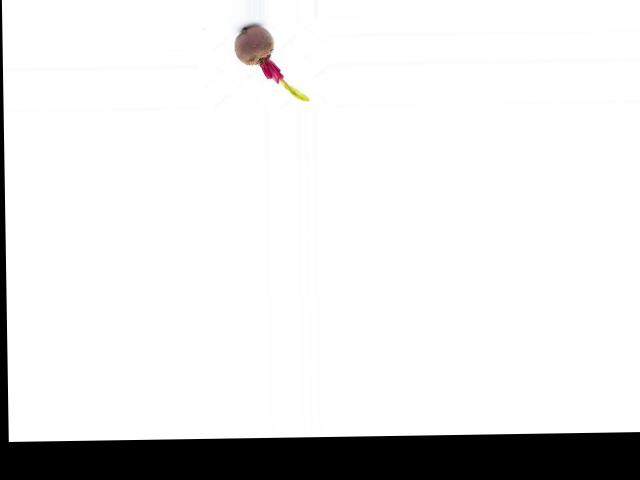beet: (233, 25, 308, 101)
